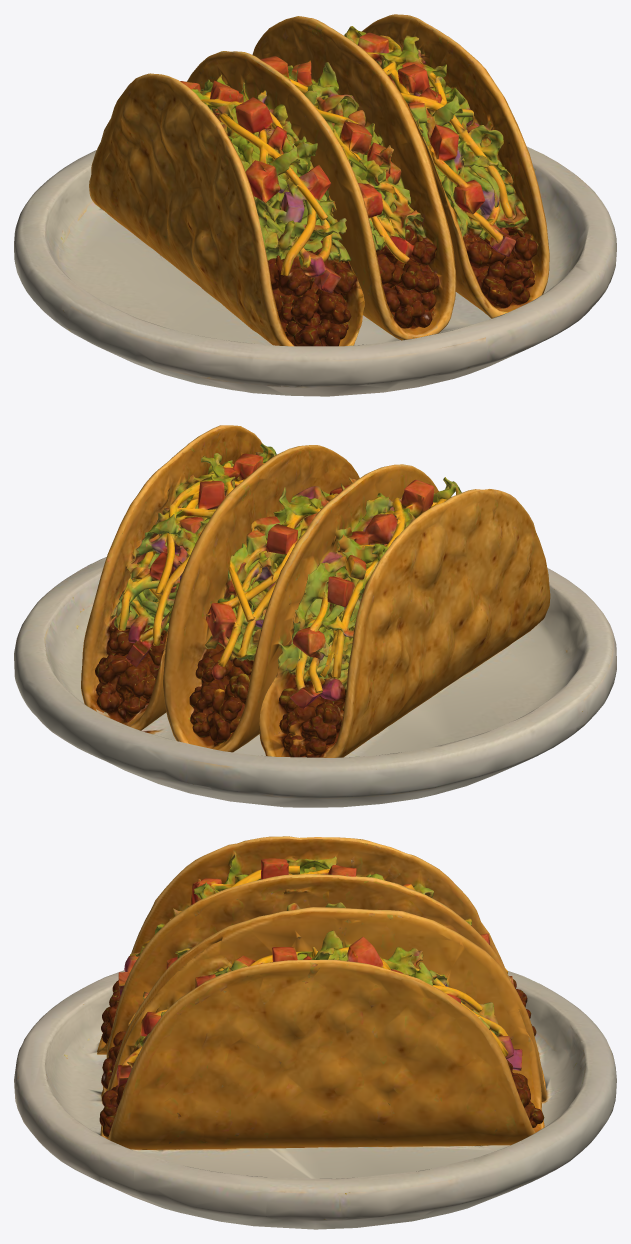
File: tacos.glb
The picture shows the model from 3 angles, top to bottom: view 1: azimuth 30°, elevation 25°; view 2: azimuth 150°, elevation 25°; view 3: azimuth 270°, elevation 25°; orthographic projection.
Parts seen in each view (by area): view 1: mesh_node; view 2: mesh_node; view 3: mesh_node.
Boxes of the visible parts, <box> form: mesh_node: <box>14,14,616,396</box>; mesh_node: <box>14,425,616,807</box>; mesh_node: <box>14,836,616,1229</box>.
Bounding box in the file's own units: 1.9 × 0.8364 × 1.9.
Materials: 1 (1 with a texture image).
